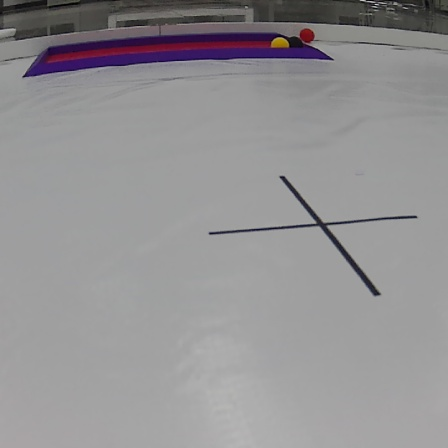black: (289, 36, 302, 50)
red: (301, 28, 315, 44)
red_aim: (22, 32, 338, 77)
yellow: (270, 38, 289, 48)
